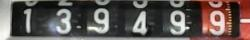digits: (93, 8, 109, 34), (56, 8, 72, 34), (208, 10, 225, 34), (168, 11, 185, 34), (132, 11, 148, 34), (23, 7, 32, 33)
